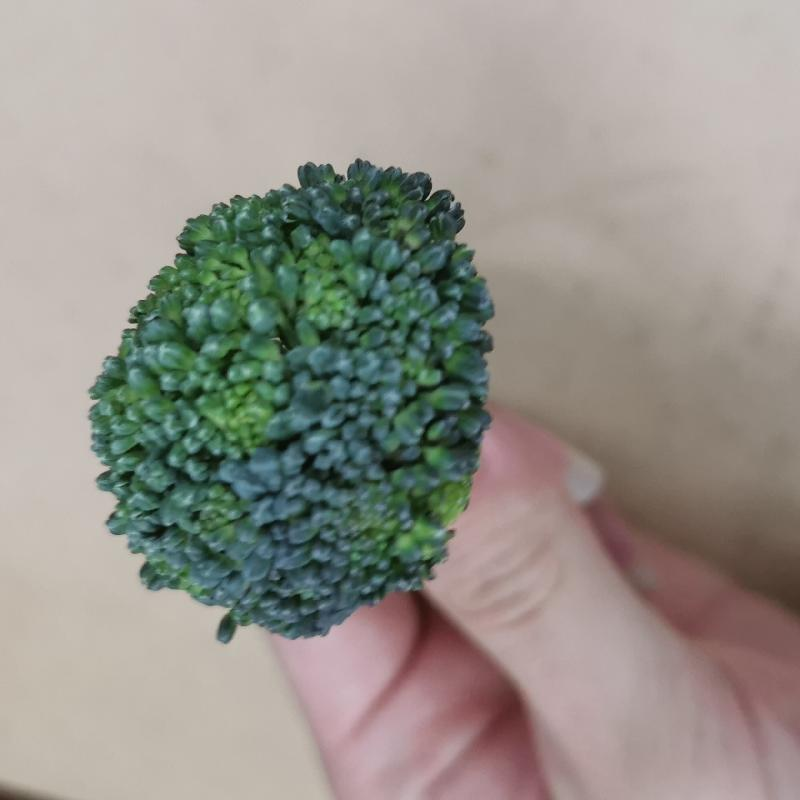broccoli: (84, 154, 495, 632)
